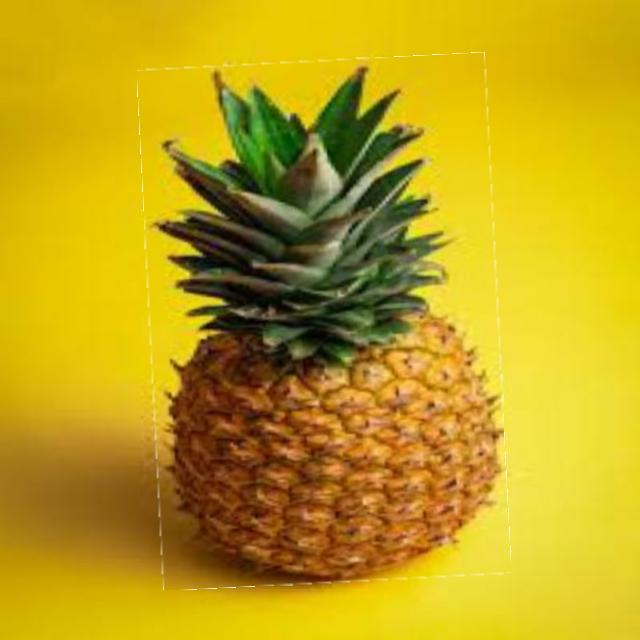Pineapple: (144, 57, 504, 586)
